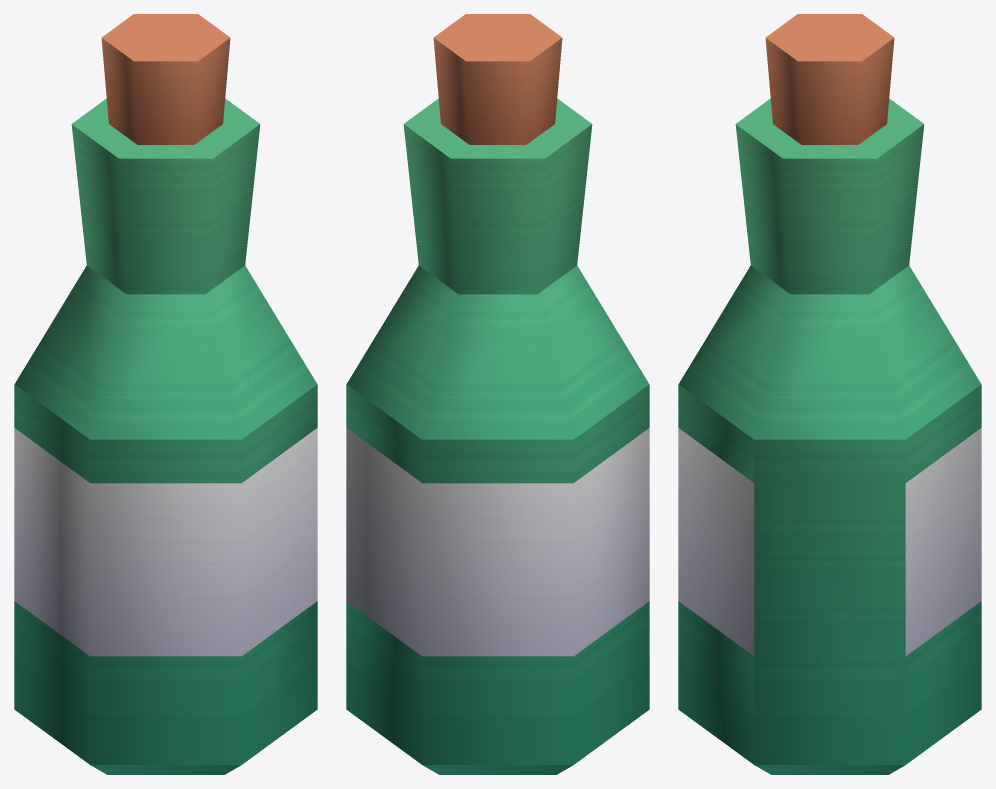
Rendered from bottle.glb.
The picture shows the model from 3 angles, left to right: view 1: azimuth 30°, elevation 25°; view 2: azimuth 150°, elevation 25°; view 3: azimuth 270°, elevation 25°; orthographic projection.
Parts seen in each view (by area): view 1: bottle; view 2: bottle; view 3: bottle.
Boxes of the visible parts, left/top/right/bottom form: bottle: left=14, top=14, right=317, bottom=774; bottle: left=346, top=14, right=649, bottom=774; bottle: left=678, top=14, right=981, bottom=774.
Bounding box in the file's own units: 0.0527 × 0.1539 × 0.0608.
1 material, 1 textured.
